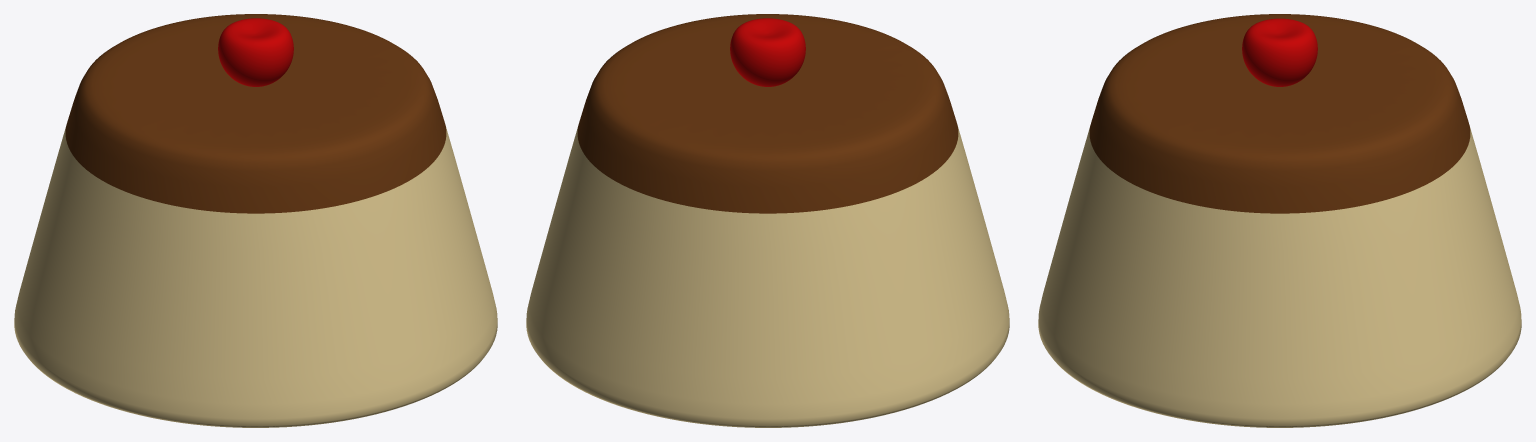
File: pudding.glb
3 views of the same model, side by side, from view 1: azimuth 30°, elevation 25°; view 2: azimuth 150°, elevation 25°; view 3: azimuth 270°, elevation 25° (orthographic).
Visible parts, largest first — view 1: Circle, Sphere.001; view 2: Circle, Sphere.001; view 3: Circle, Sphere.001.
Boxes of the visible parts, <box> form: Circle: <box>14,14,497,427</box>; Sphere.001: <box>218,18,293,86</box>; Circle: <box>526,14,1009,427</box>; Sphere.001: <box>730,18,805,86</box>; Circle: <box>1038,14,1521,427</box>; Sphere.001: <box>1242,18,1317,86</box>.
Bounding box in the file's own units: 1.96 × 1.34 × 1.96.
